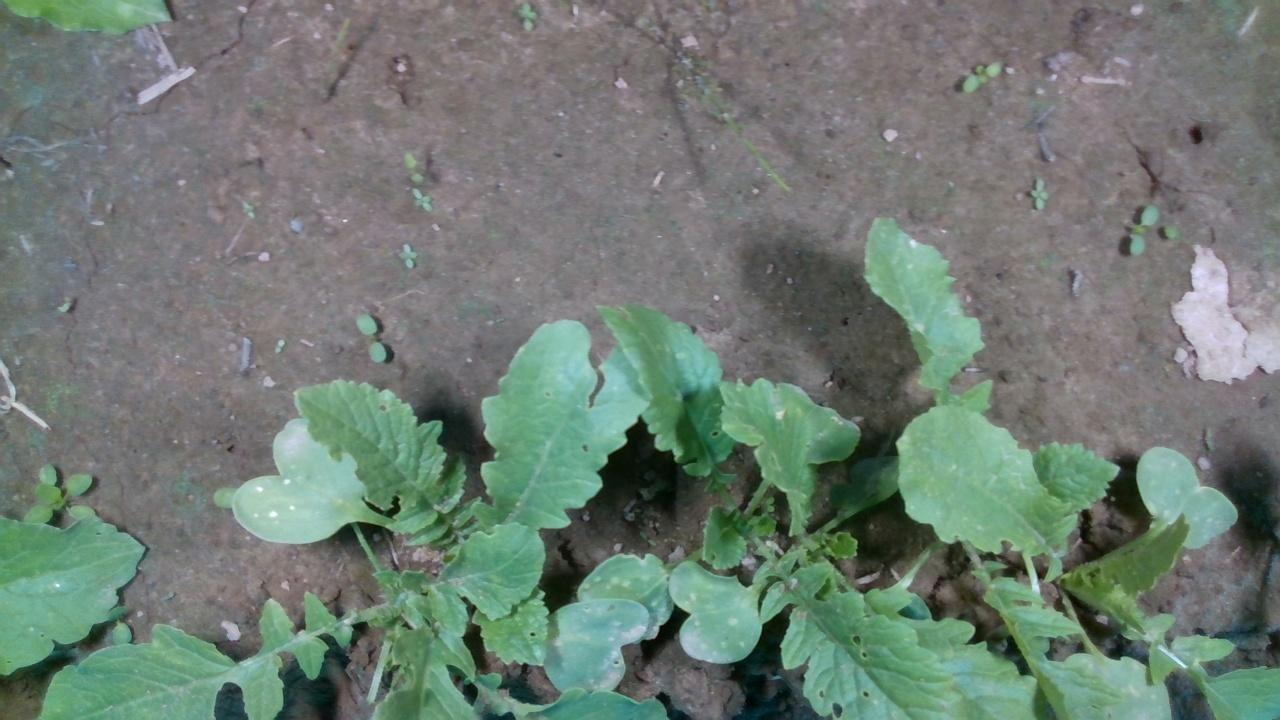weed: (353, 312, 387, 365), (1126, 201, 1158, 257), (959, 59, 1001, 93), (408, 186, 434, 213), (1028, 176, 1048, 209), (516, 1, 538, 30), (395, 242, 418, 269)
